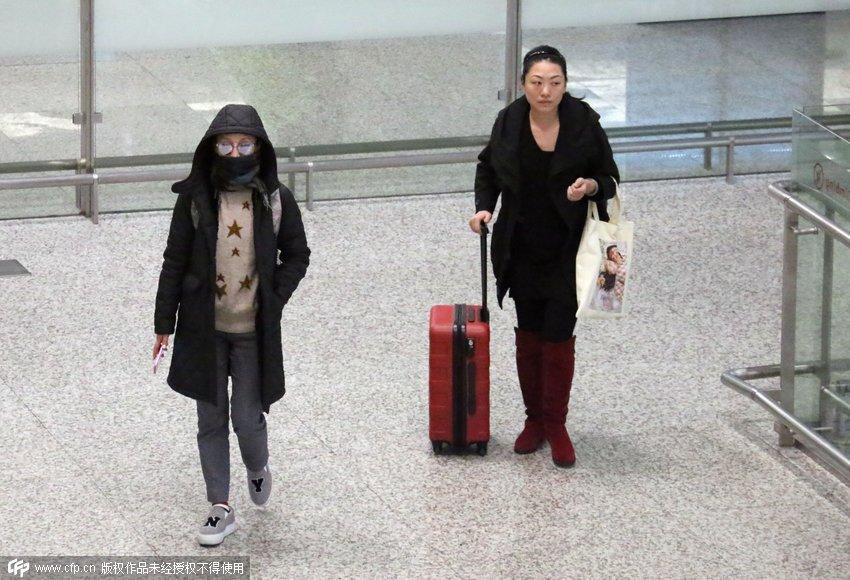NONE: (528, 71, 565, 109)
WRONG: (212, 136, 258, 182)
